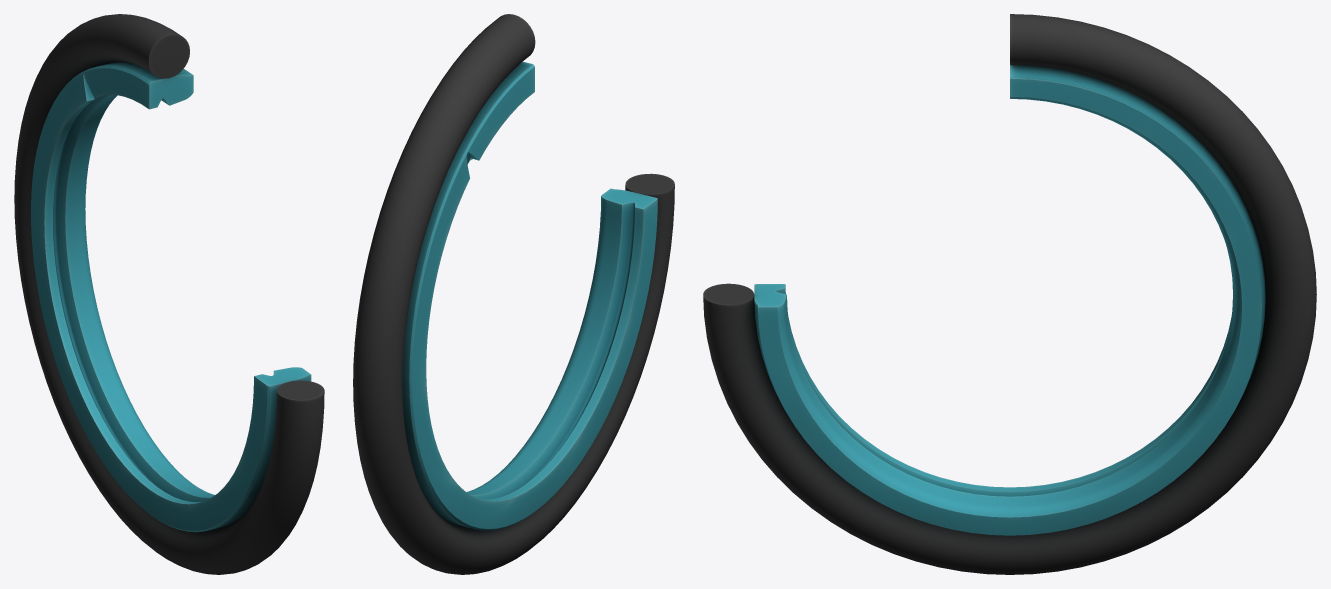
3 renders of one model, left to right at view 1: azimuth 30°, elevation 25°; view 2: azimuth 150°, elevation 25°; view 3: azimuth 270°, elevation 25°, orthographic. The views are drawn at different scales.
Parts seen in each view (by area): view 1: PR00047_turcon_stepseal_2a; view 2: PR00047_turcon_stepseal_2a; view 3: PR00047_turcon_stepseal_2a.
Part boxes in pixels (x1=…): PR00047_turcon_stepseal_2a: x1=14, y1=14, x2=324, y2=574; PR00047_turcon_stepseal_2a: x1=353, y1=14, x2=674, y2=574; PR00047_turcon_stepseal_2a: x1=703, y1=14, x2=1316, y2=574.
Size of the model in its own units: 0.018 by 0.199 by 0.199.
Materials: 1 (1 with a texture image).
